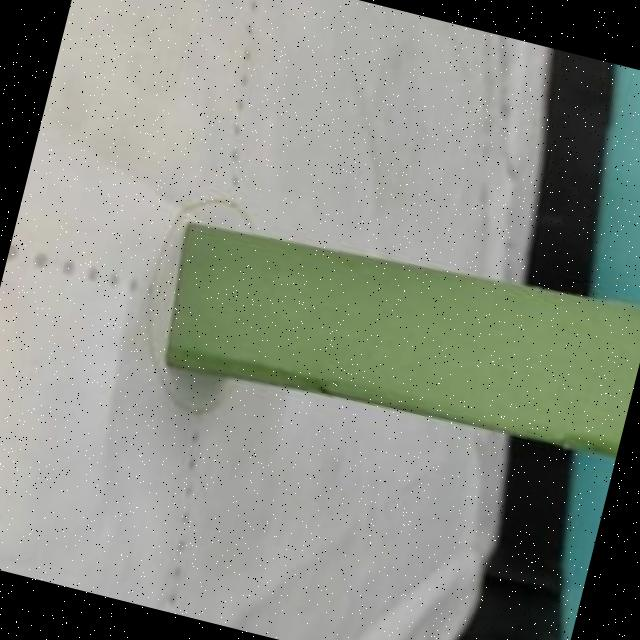greenbox: (153, 192, 640, 472)
